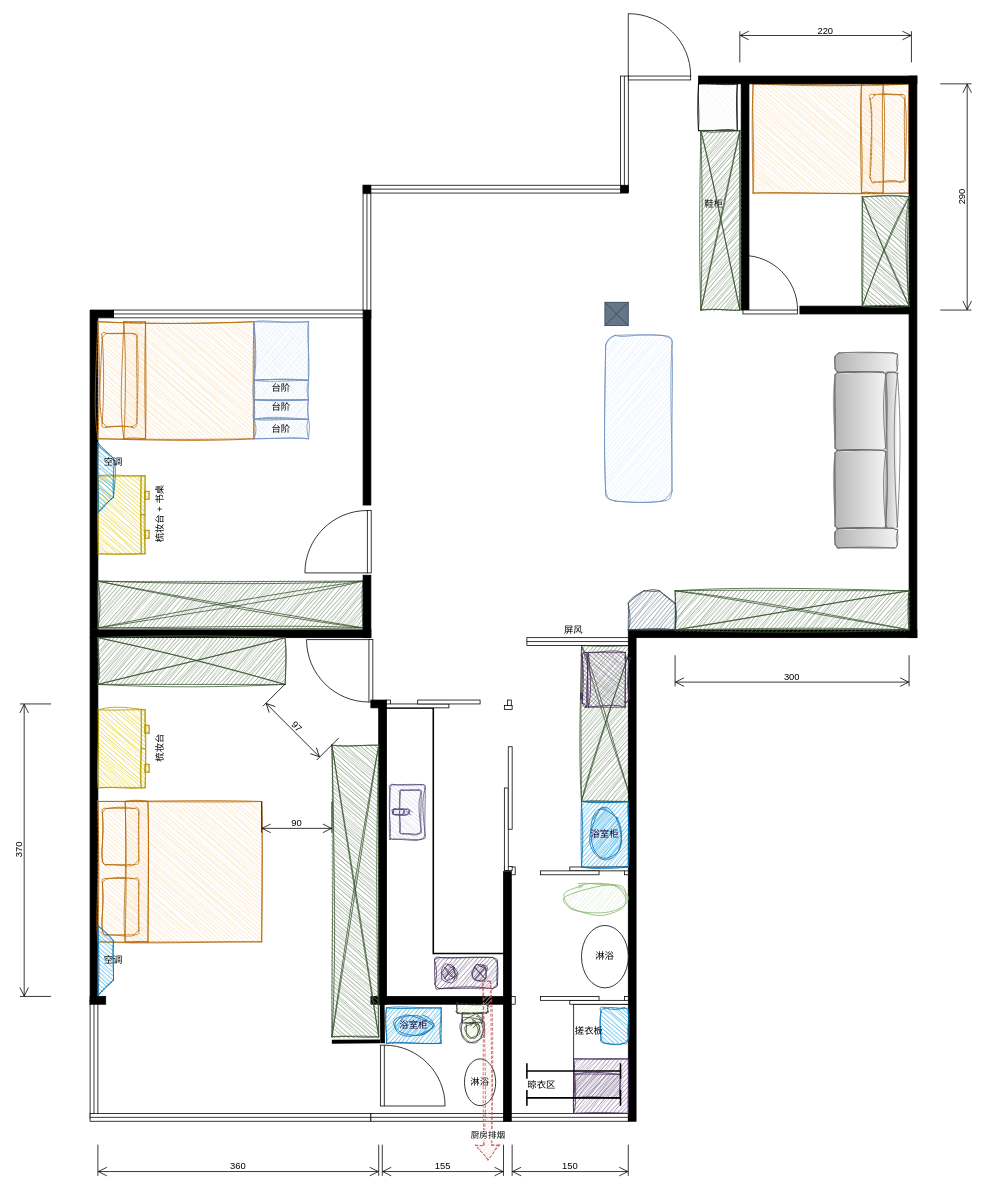
The diagram is 985 pixels wide and 1190 high, and some of its shapes have lost their labels. Here are the shapes that lost their labels. From the top down, the centre of each, then its label:
At [717,107]: "换鞋区 小窗子".
At [638,418]: "桌子".
At [651,610]: "饮水机".
At [791,610]: "餐边柜".
At [604,679]: "冰箱".
At [596,898]: "蹲便".
At [614,1025]: "锅炉".
At [596,1086]: "洗烘套装".
